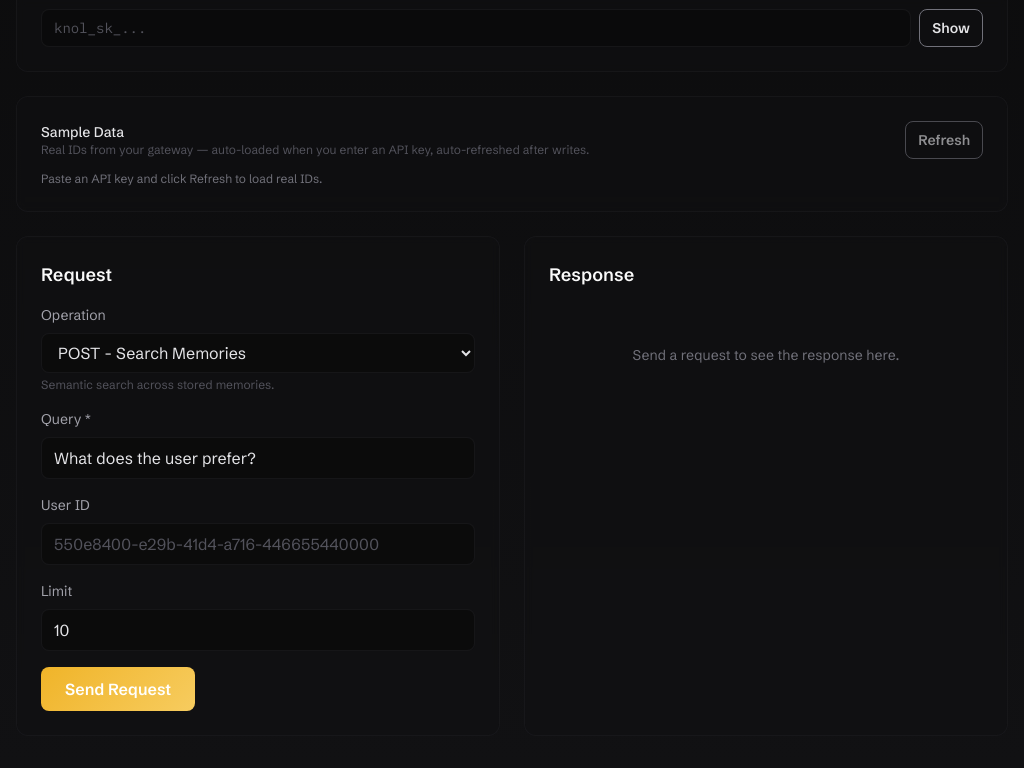
Test: PlaygroundPage › shows error when sending without API key
The image size is (1024, 768).
(page scrolled)
Click the button "Send Request" at (118, 689), box [41,667,195,711]
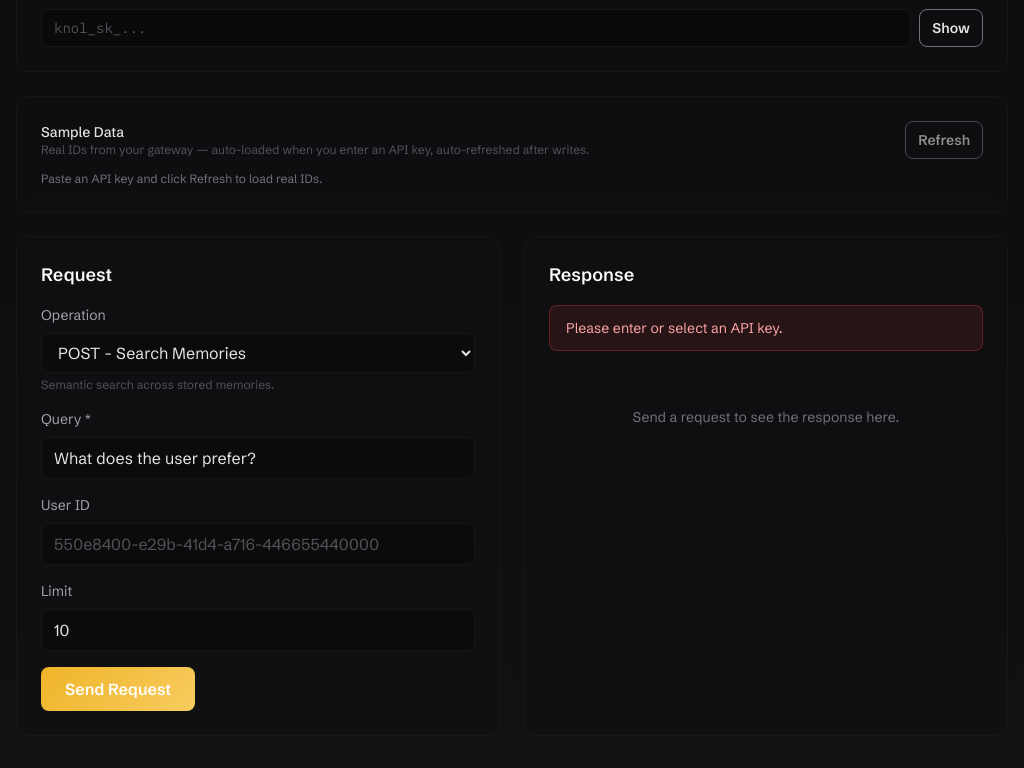
expect the text "Please enter or select an API key." is shown: met, box [549,305,983,351]
